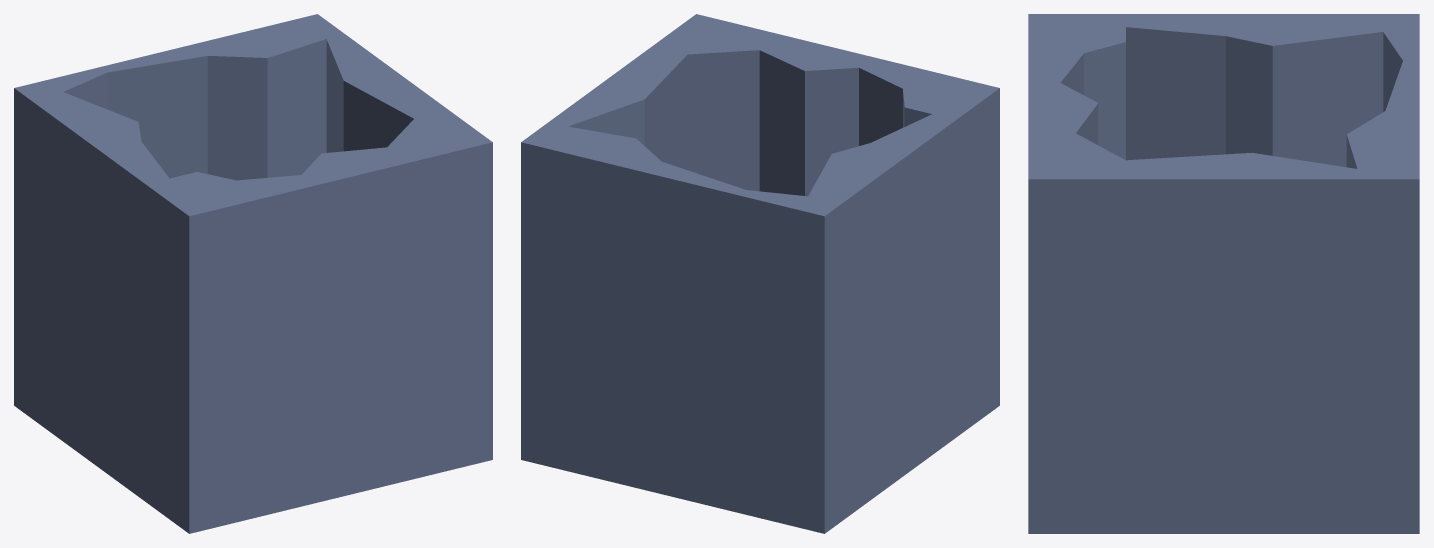
File: block.fbx
3 renders of one model, left to right at view 1: azimuth 30°, elevation 25°; view 2: azimuth 150°, elevation 25°; view 3: azimuth 270°, elevation 25°, orthographic. The views are drawn at different scales.
Visible parts, largest first — view 1: floor.020; view 2: floor.020; view 3: floor.020.
Part boxes in pixels (<box>): floor.020: <box>14,14,492,533</box>; floor.020: <box>521,14,999,533</box>; floor.020: <box>1028,14,1419,533</box>.
Bounding box in the file's own units: 100 × 100 × 100.
